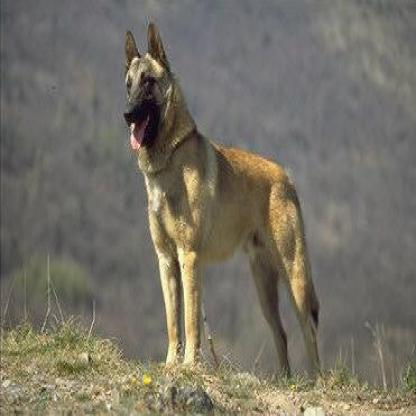malinois: (120, 21, 323, 385)
